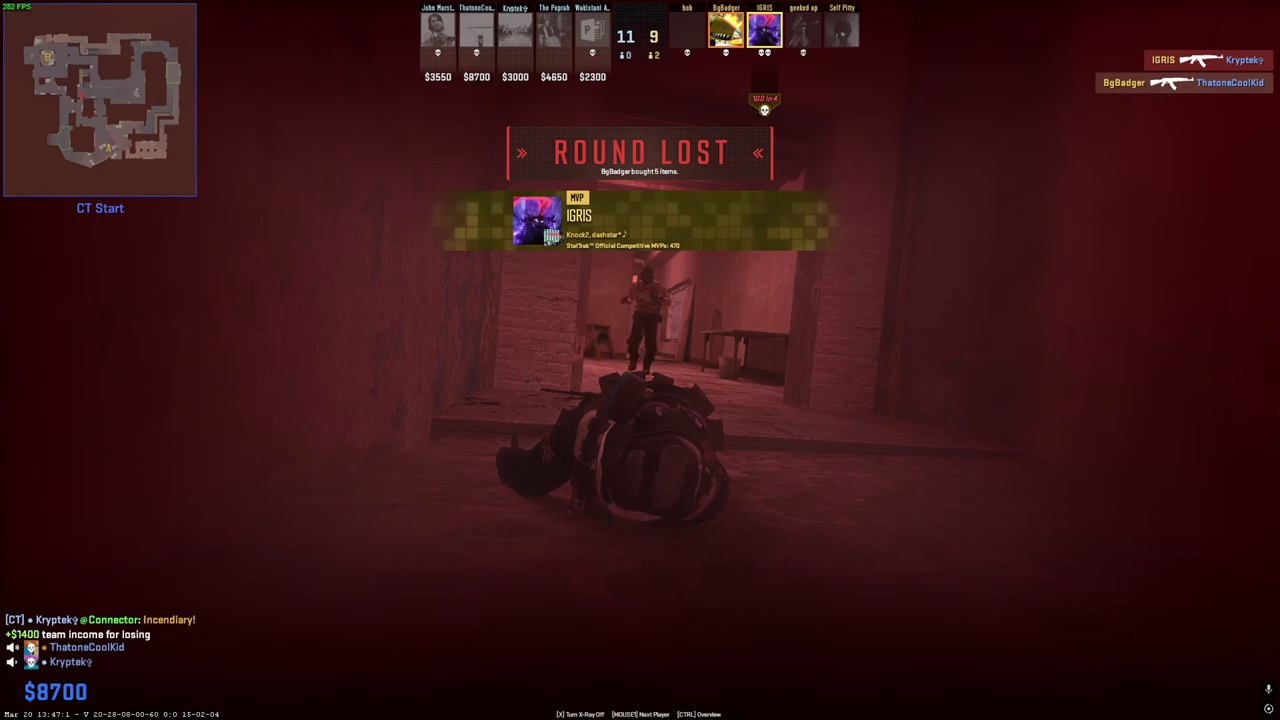Terrorist: (623, 265, 666, 377)
